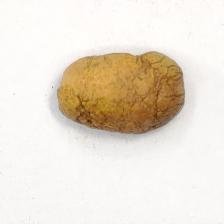NG: (132, 50, 184, 132), (73, 94, 99, 130)
